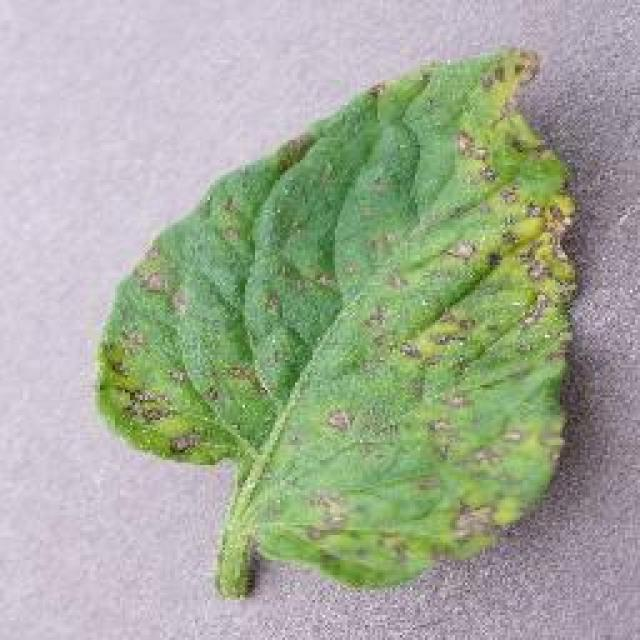Tomato target spot leaf: (94, 42, 584, 598)
